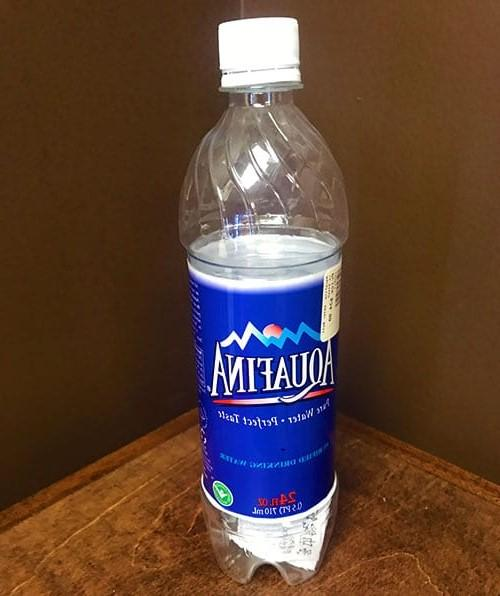bottle: (18, 201, 500, 424)
